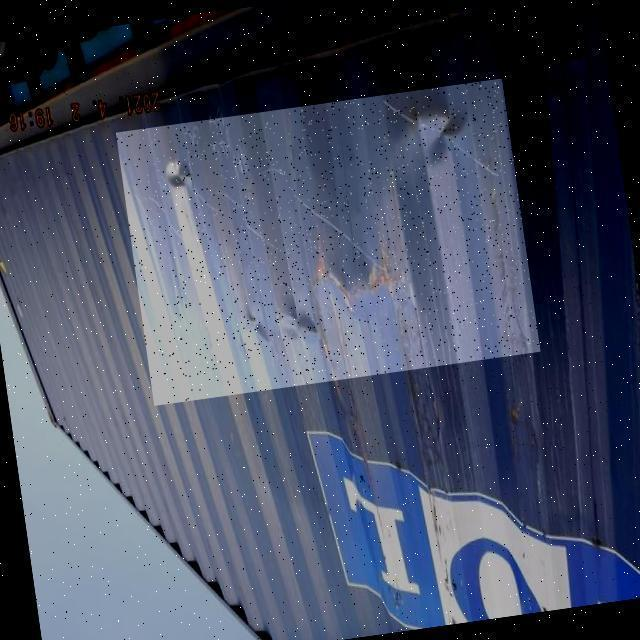dent: (117, 79, 542, 407)
